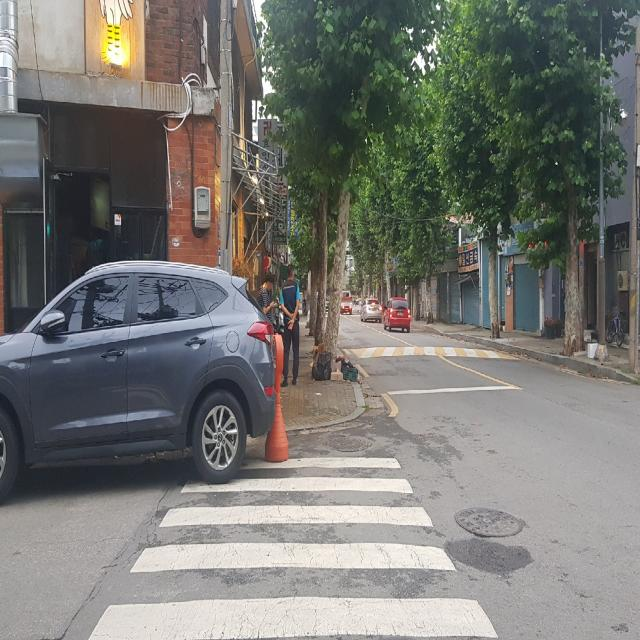횡단보도: (89, 454, 501, 640)
